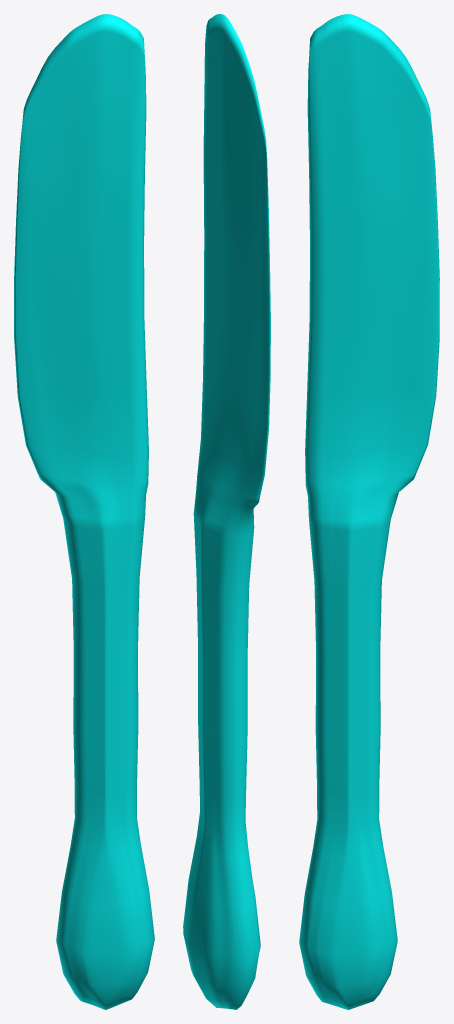
The model's file is knife.obj.
3 views of the same model, side by side, from view 1: azimuth 90°, elevation 25°; view 2: azimuth 210°, elevation 25°; view 3: azimuth 270°, elevation 25° (orthographic).
Parts seen in each view (by area): view 1: pCube1_pCube1; view 2: pCube1_pCube1; view 3: pCube1_pCube1.
Part boxes in pixels (<box>): pCube1_pCube1: <box>14,14,154,1009</box>; pCube1_pCube1: <box>183,14,270,1009</box>; pCube1_pCube1: <box>299,14,439,1009</box>.
Bounding box in the file's own units: 2.08 × 37.07 × 4.76.
